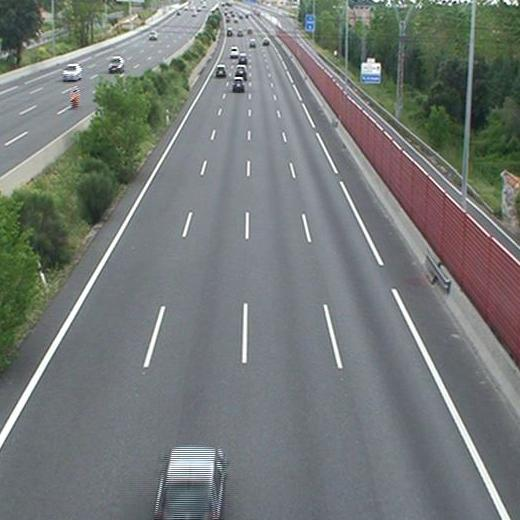car: (155, 448, 226, 520), (232, 77, 245, 90), (235, 65, 247, 77), (216, 66, 226, 77), (238, 53, 247, 63), (262, 37, 270, 48), (248, 39, 256, 49), (229, 47, 237, 56)
